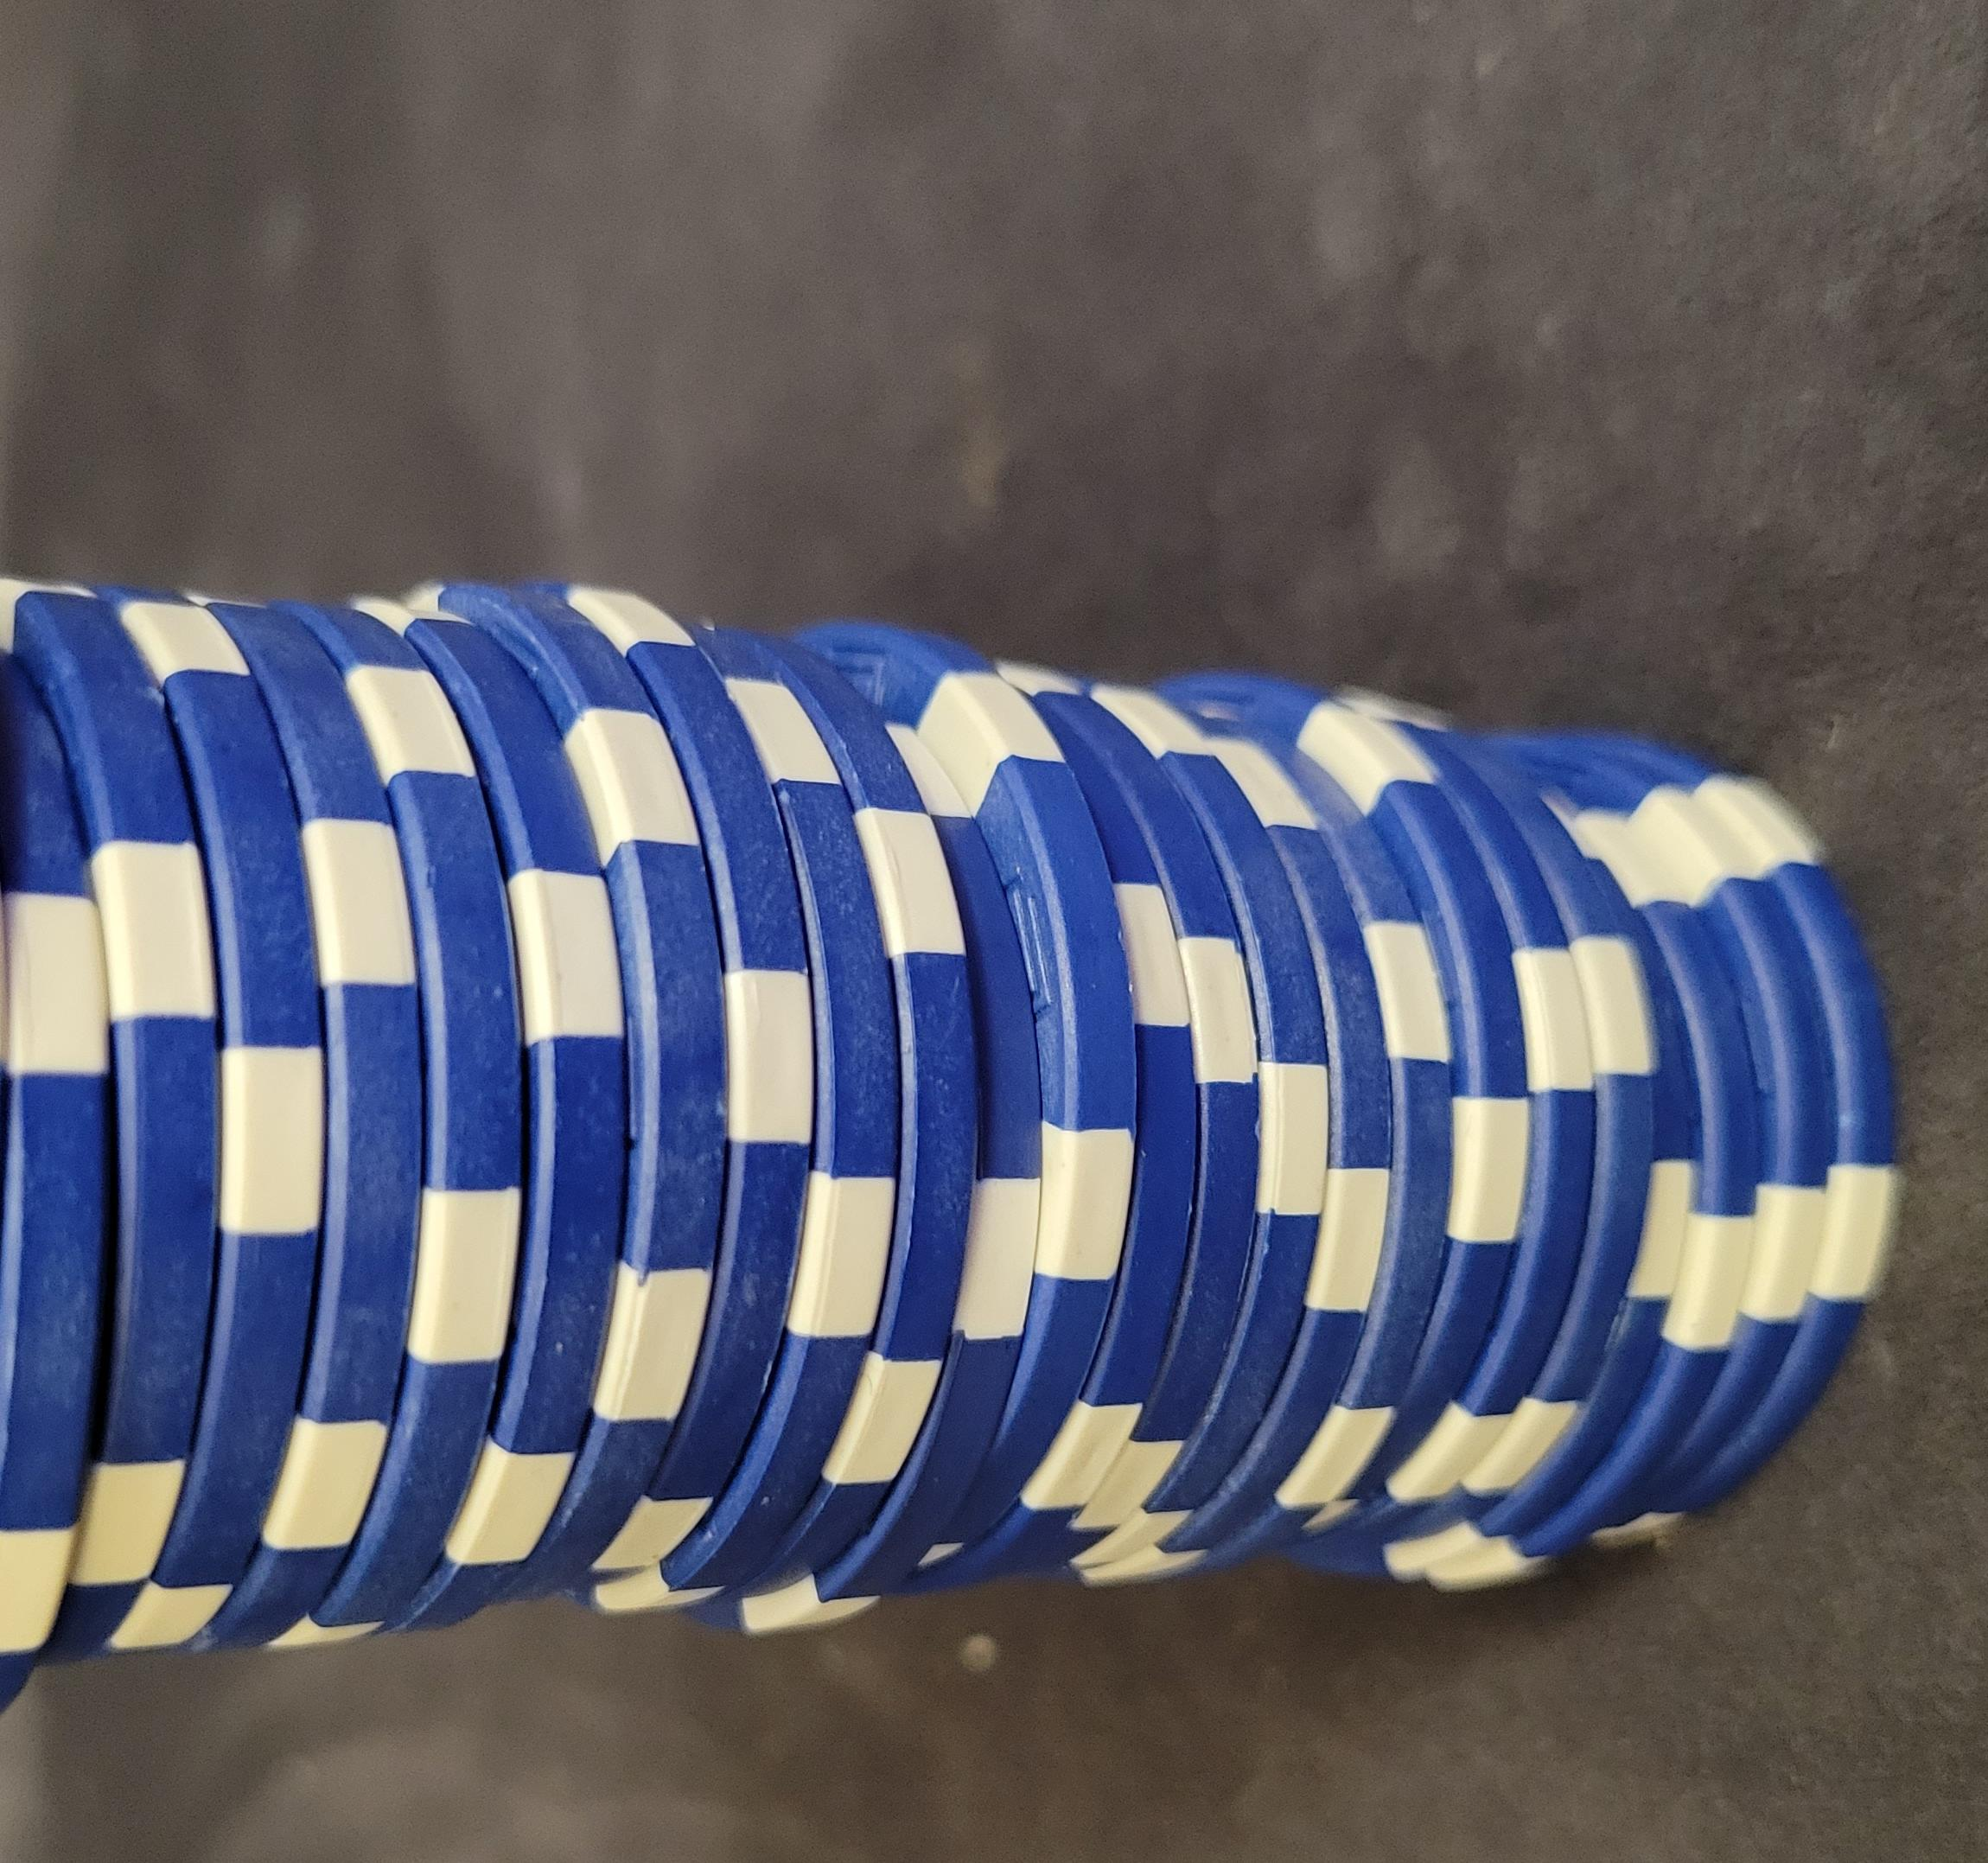Chip: (0, 58, 1302, 1863)
